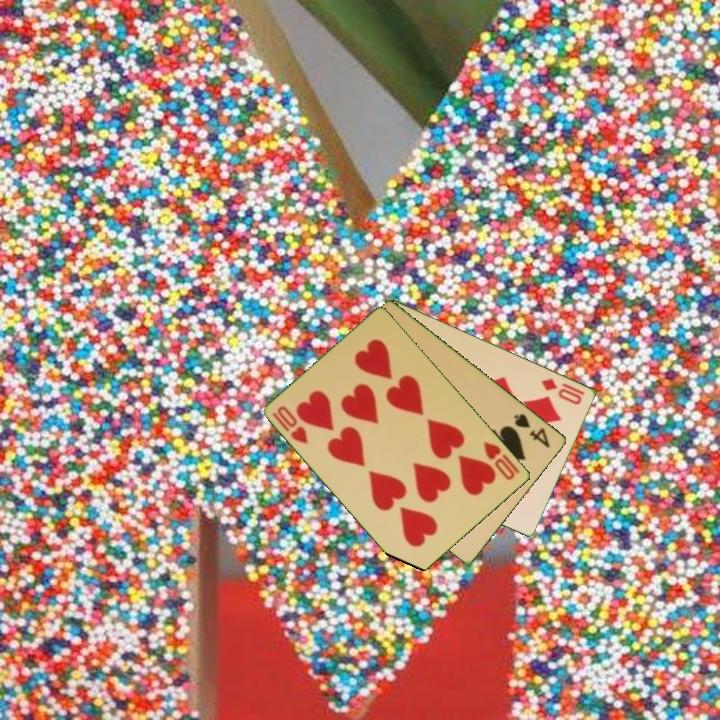10d: (538, 374, 585, 407)
10h: (480, 438, 523, 483), (269, 402, 312, 447)
4s: (510, 410, 553, 451)
